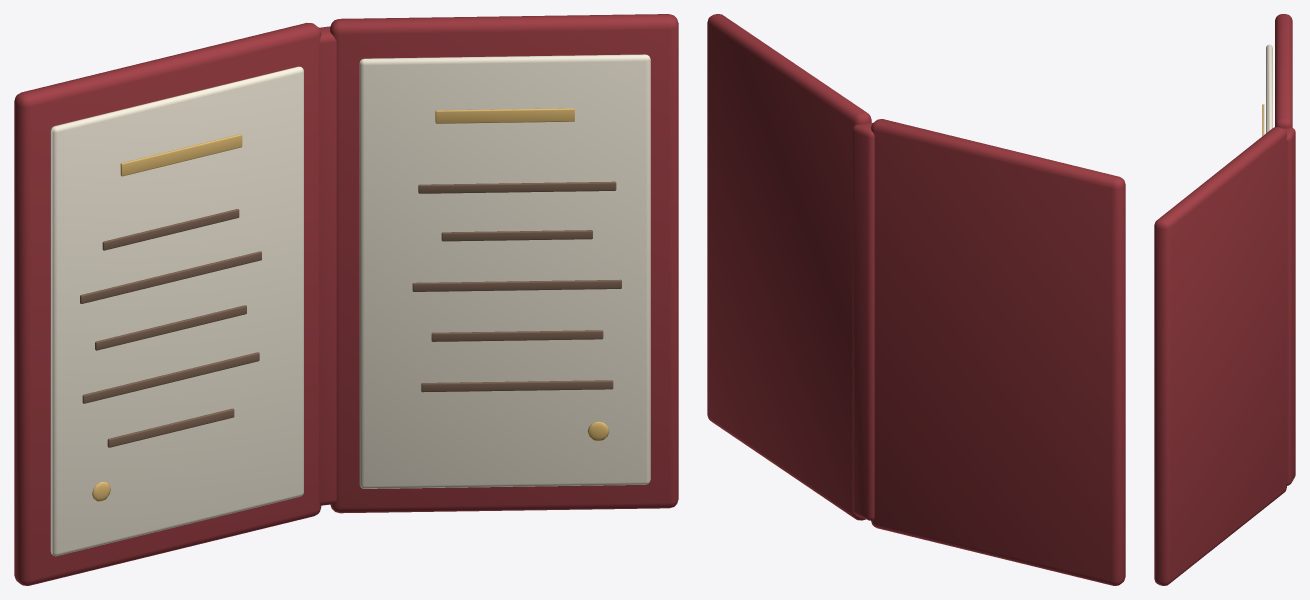
Rendered from menu.glb.
3 views of the same model, side by side, from view 1: azimuth 30°, elevation 25°; view 2: azimuth 150°, elevation 25°; view 3: azimuth 270°, elevation 25° (orthographic). The views are drawn at different scales.
Visible parts, largest first — view 1: MenuBook; view 2: MenuBook; view 3: MenuBook.
Part boxes in pixels (x1,y1,x2,y2): MenuBook: [14, 14, 678, 585]; MenuBook: [707, 14, 1125, 585]; MenuBook: [1154, 14, 1295, 585].
Size of the model in its own units: 0.2787 by 0.225 by 0.0789.
